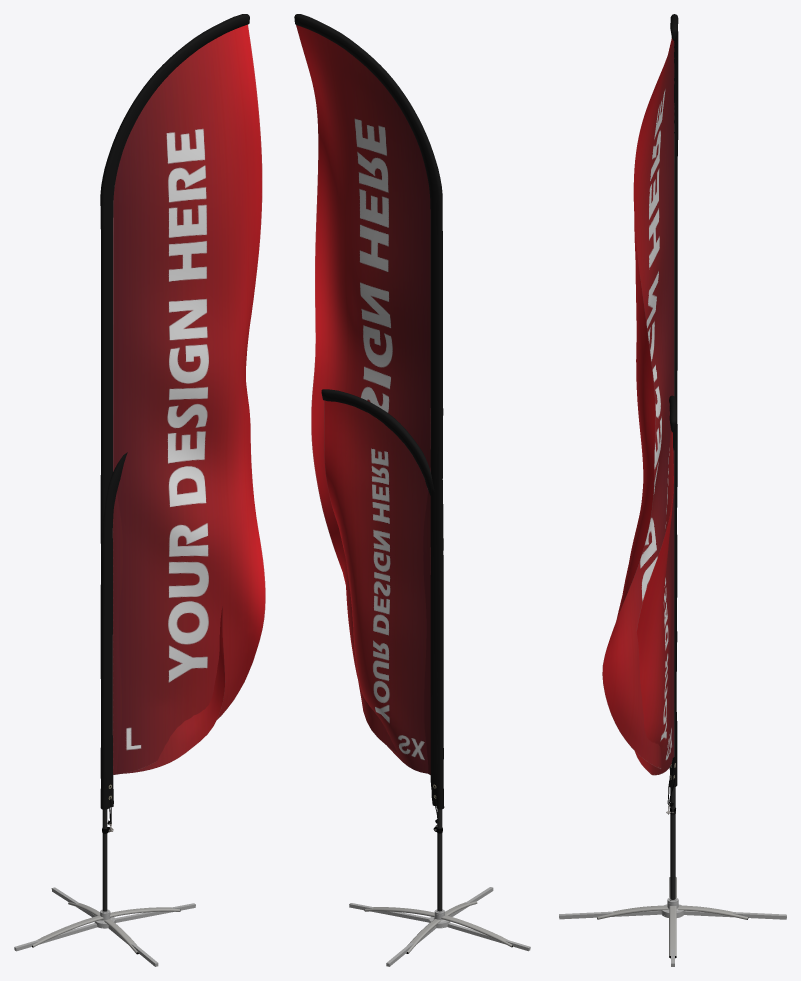
File: convex.glb
3 renders of one model, left to right at view 1: azimuth 30°, elevation 25°; view 2: azimuth 150°, elevation 25°; view 3: azimuth 270°, elevation 25°, orthographic. The views are drawn at different scales.
Visible parts, largest first — view 1: l_vat, l_pocket, xs_vat, xs_pocket, luxury_cross_base, cross_base_grey_black, pole; view 2: l_vat, xs_vat, l_pocket, xs_pocket, luxury_cross_base, cross_base_grey_black, pole; view 3: l_vat, xs_vat, l_pocket, luxury_cross_base, cross_base_grey_black, pole.
Boxes of the visible parts, box(x1,y1,x2,y2) form: l_vat: box(113, 24, 265, 774); l_pocket: box(100, 14, 249, 809); xs_vat: box(112, 492, 225, 774); xs_pocket: box(100, 452, 127, 809); luxury_cross_base: box(14, 887, 195, 966); cross_base_grey_black: box(32, 902, 180, 954); pole: box(102, 798, 113, 911); l_vat: box(296, 25, 430, 774); xs_vat: box(324, 400, 428, 773); l_pocket: box(294, 14, 443, 809); xs_pocket: box(321, 389, 444, 809); luxury_cross_base: box(349, 887, 530, 966); cross_base_grey_black: box(364, 901, 512, 953); pole: box(433, 797, 442, 911); l_vat: box(602, 38, 674, 768); xs_vat: box(634, 430, 673, 775); l_pocket: box(669, 14, 678, 789); luxury_cross_base: box(559, 897, 786, 966); cross_base_grey_black: box(597, 877, 748, 958); pole: box(666, 765, 675, 899).
Bounding box in the file's own units: 1.3 × 4.66 × 0.995.
Materials: 21 (9 with a texture image).
